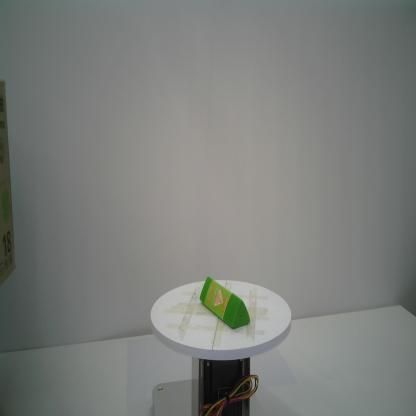Stationery: (198, 275, 251, 329)
